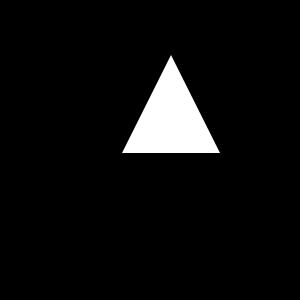triangle: (122, 55, 220, 153)
